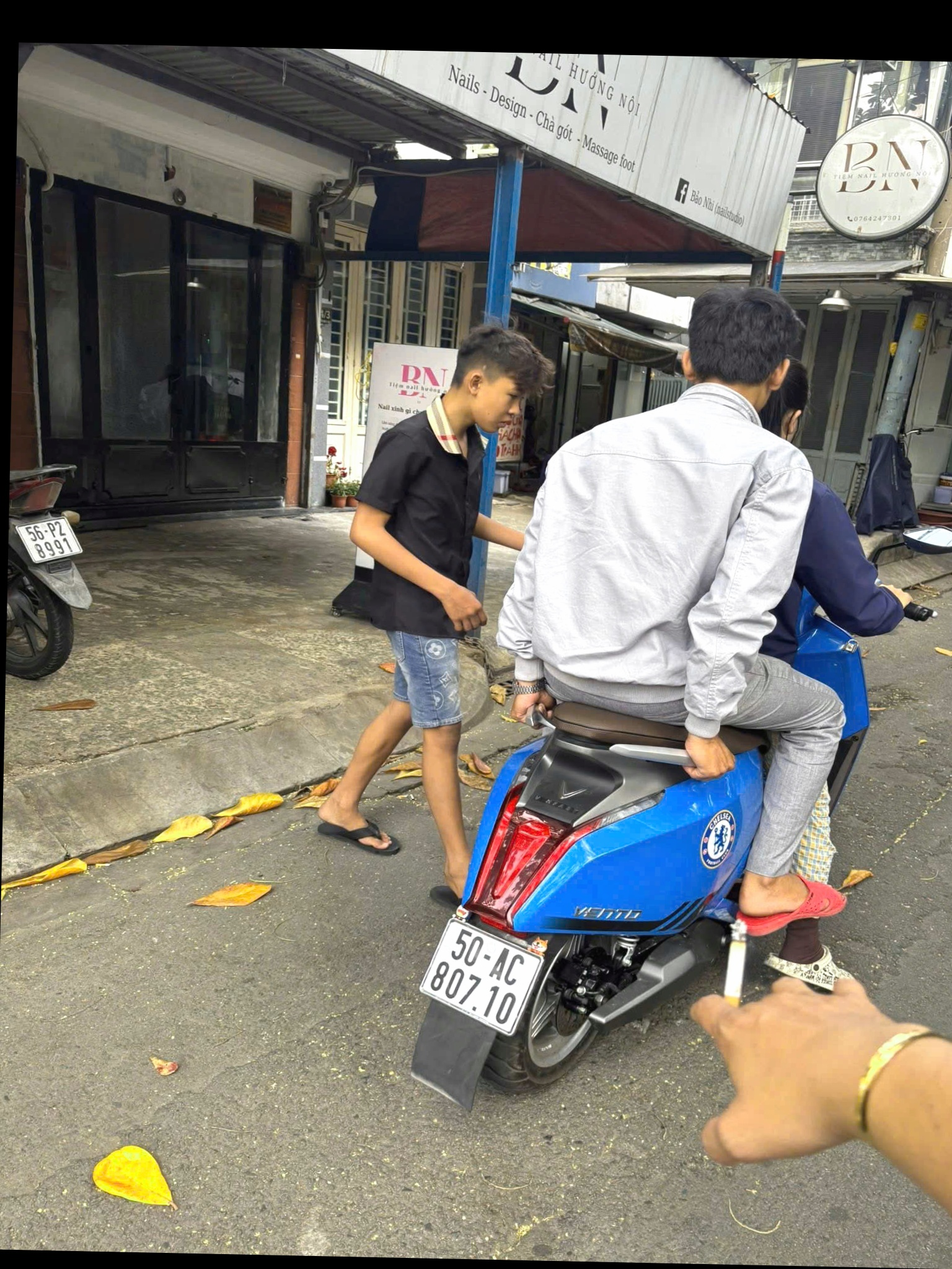Bien-so: (396, 894, 503, 1018), (8, 480, 77, 539)
